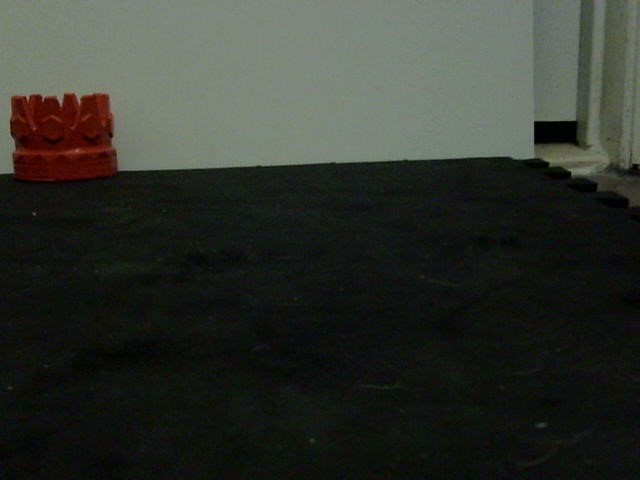crown: (8, 92, 121, 183)
